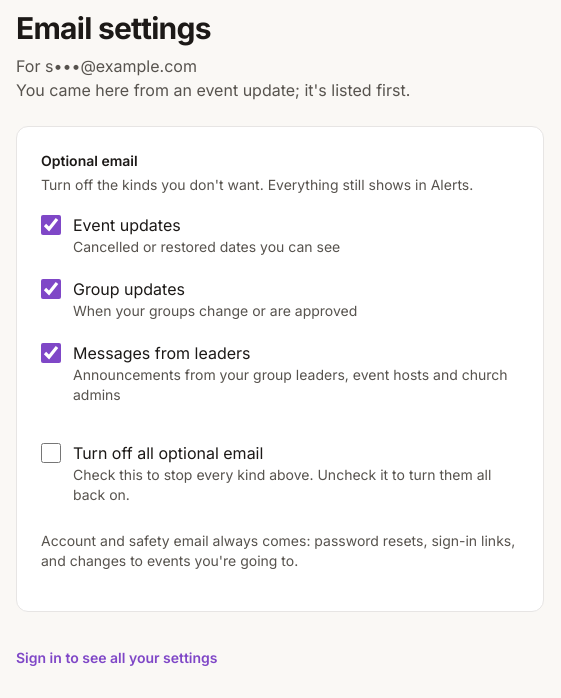
Test: saves through the link
Click the checkbox labelled "Group updates When your groups change or are approved" at (51, 289), box x1=41 y1=279 x2=61 y2=299
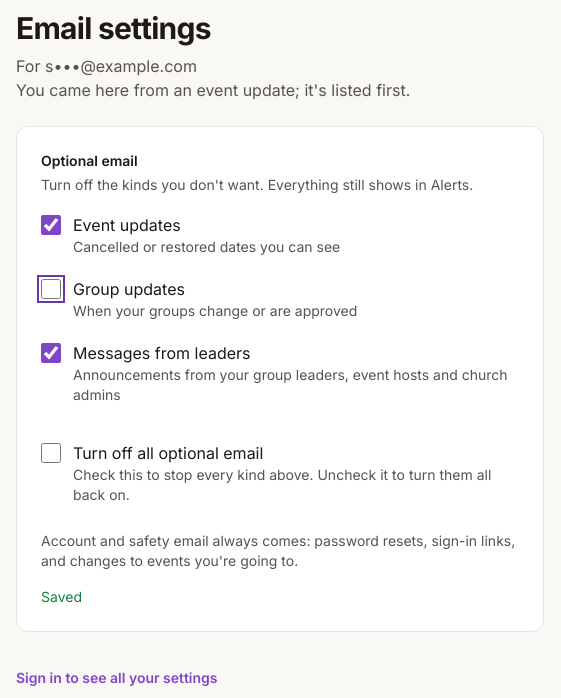
Result: the text "Saved" is shown at x1=41 y1=588 x2=82 y2=605
